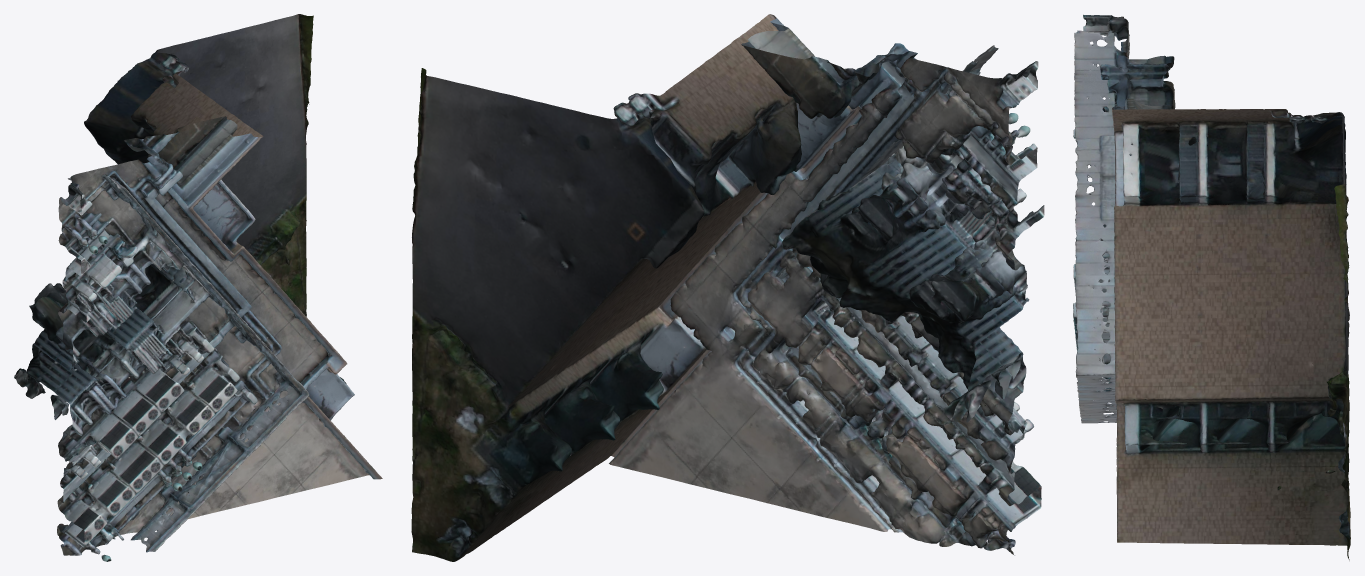
Rendered from Tile_+010_+008.fbx.
The picture shows the model from 3 angles, left to right: view 1: azimuth 30°, elevation 25°; view 2: azimuth 150°, elevation 25°; view 3: azimuth 270°, elevation 25°; orthographic projection. The views are drawn at different scales.
Parts seen in each view (by area): view 1: DefaultName; view 2: DefaultName; view 3: DefaultName.
Boxes of the visible parts, box(x1,y1,x2,y2) form: DefaultName: box(14, 14, 382, 561); DefaultName: box(411, 14, 1044, 561); DefaultName: box(1073, 14, 1350, 560).
Size of the model in its own units: 22.54 by 22.54 by 15.19.
